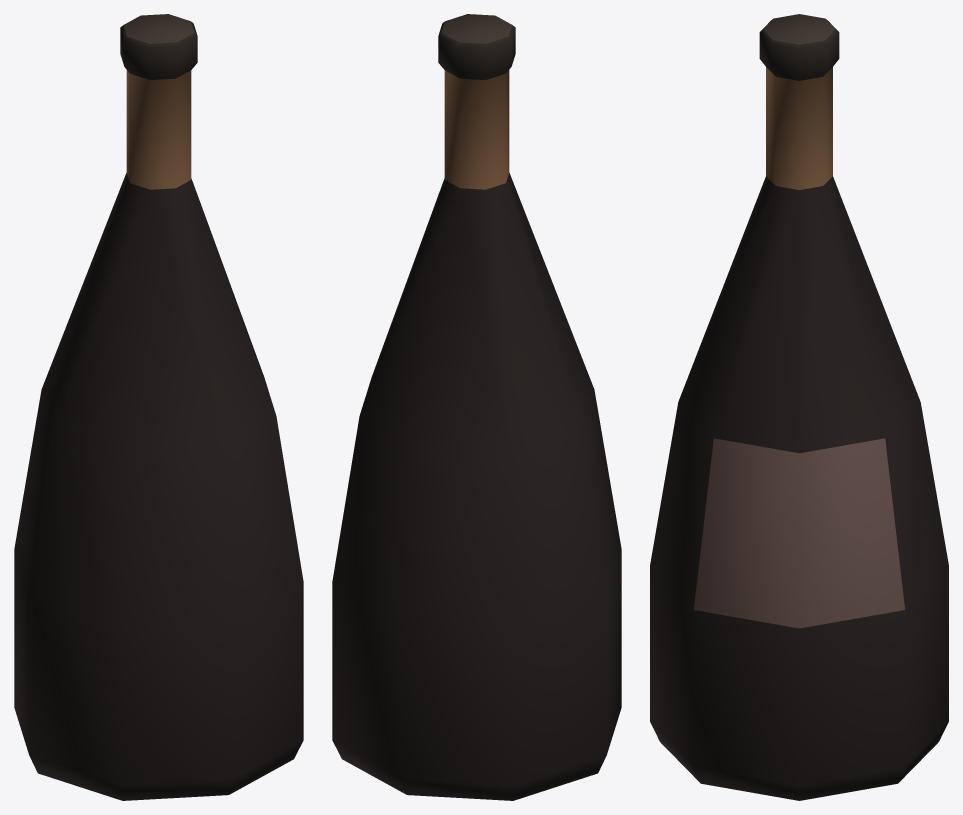
File: WineBottle_01.glb
3 views of the same model, side by side, from view 1: azimuth 30°, elevation 25°; view 2: azimuth 150°, elevation 25°; view 3: azimuth 270°, elevation 25° (orthographic).
Parts seen in each view (by area): view 1: WineBottle_01; view 2: WineBottle_01; view 3: WineBottle_01.
Part boxes in pixels (x1,y1,x2,y2): WineBottle_01: (14, 14, 303, 800); WineBottle_01: (332, 14, 621, 800); WineBottle_01: (650, 14, 948, 800).
Size of what is drawn, in the model's own units: 0.2289 by 0.6092 by 0.2289.
1 material, 1 textured.
